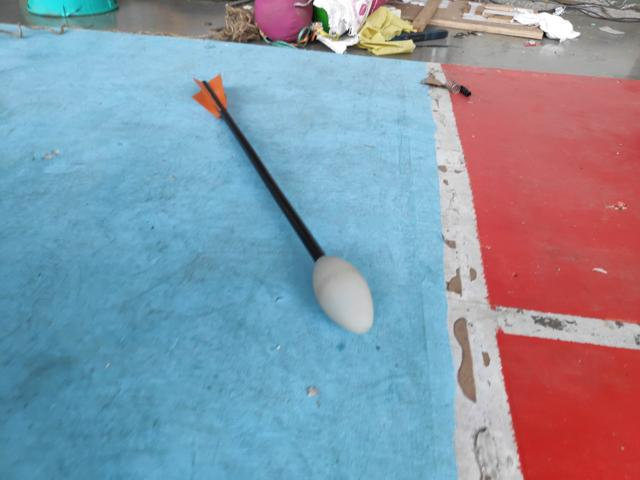Head: (311, 251, 378, 341)
Tail: (189, 70, 230, 120)
